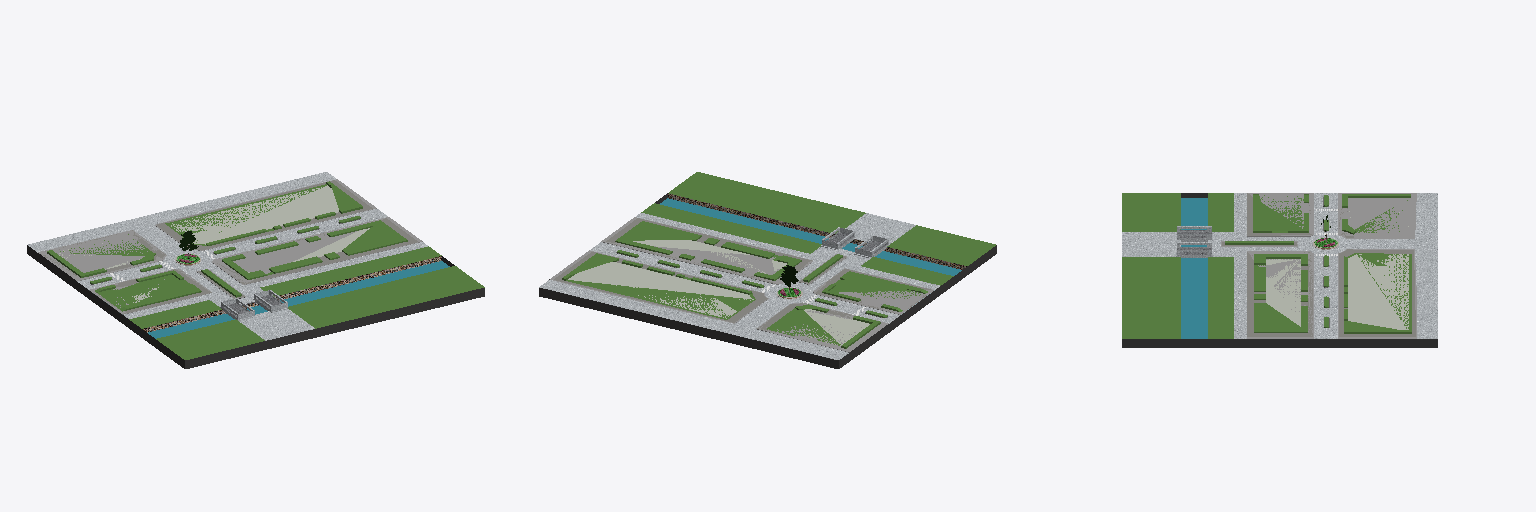
The picture shows the model from 3 angles: view 1: azimuth 30°, elevation 25°; view 2: azimuth 150°, elevation 25°; view 3: azimuth 270°, elevation 25°; orthographic projection.
Parts seen in each view (by area): view 1: Mesh63 Model; view 2: Mesh63 Model; view 3: Mesh63 Model.
Part boxes in pixels (left/top/right/bottom): Mesh63 Model: left=27, top=172, right=484, bottom=368; Mesh63 Model: left=539, top=172, right=996, bottom=368; Mesh63 Model: left=1122, top=193, right=1437, bottom=347.
Size of the model in its own units: 358 by 43.58 by 327.
19 materials, 7 textured.